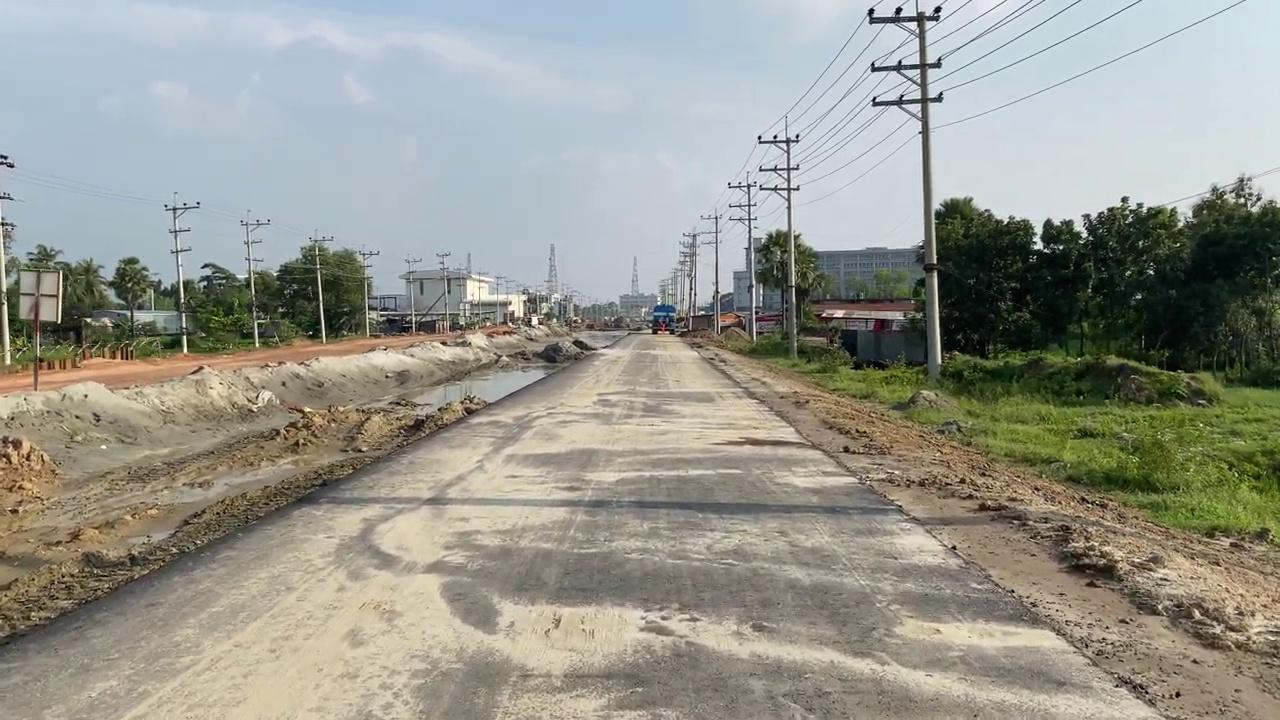Garbage: (0, 318, 605, 641)
Muddy road: (2, 325, 1222, 718)
Obstacle: (17, 267, 62, 390)
Pole: (867, 1, 946, 382), (757, 116, 801, 359), (163, 191, 200, 354), (239, 210, 269, 347)
Rickshaw: (686, 334, 1279, 718)
Traffic-sign: (752, 227, 828, 339)
Tree: (650, 303, 677, 334), (717, 311, 743, 331)
